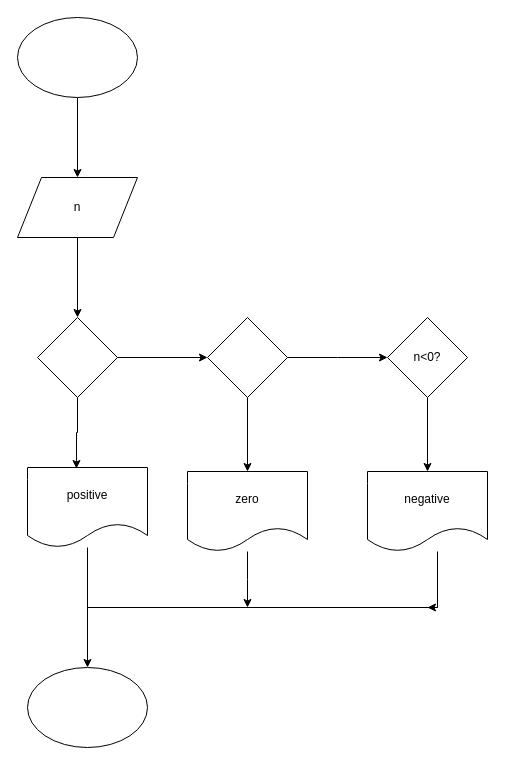
The diagram is 505 pixels wide and 765 high, and some of its shapes have lost their labels. The shapes that lost their labels are listed below. From the top down, each one's centre as x and y in pixels, then its label:
At (77,357): "n>0?".
At (247,357): "n==0?".
